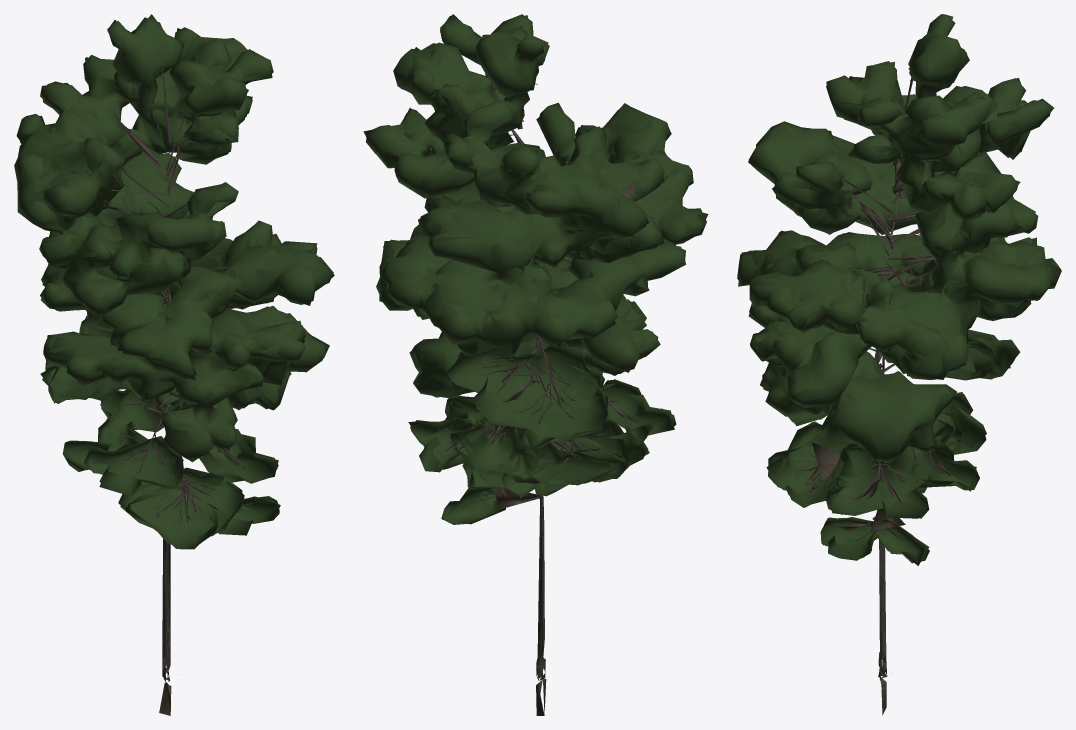
Rendered from mature-pine-lods.glb.
3 renders of one model, left to right at view 1: azimuth 30°, elevation 25°; view 2: azimuth 150°, elevation 25°; view 3: azimuth 270°, elevation 25°, orthographic. The views are drawn at different scales.
Parts seen in each view (by area): view 1: near_mature_foliage, far_mature_foliage, far_mature_bark; view 2: near_mature_foliage, far_mature_foliage, far_mature_bark; view 3: near_mature_foliage, far_mature_foliage, far_mature_bark.
Boxes of the visible parts, x1,y1,x2,y2 form: near_mature_foliage: (15, 17, 333, 547); far_mature_foliage: (14, 14, 334, 549); far_mature_bark: (43, 67, 261, 715); near_mature_foliage: (366, 14, 706, 524); far_mature_foliage: (363, 14, 708, 524); far_mature_bark: (422, 78, 643, 715); near_mature_foliage: (737, 14, 1061, 563); far_mature_foliage: (738, 14, 1061, 565); far_mature_bark: (788, 77, 973, 715).
Size of the model in its own units: 7.93 by 20.26 by 8.63.
Materials: 2 (1 with a texture image).
